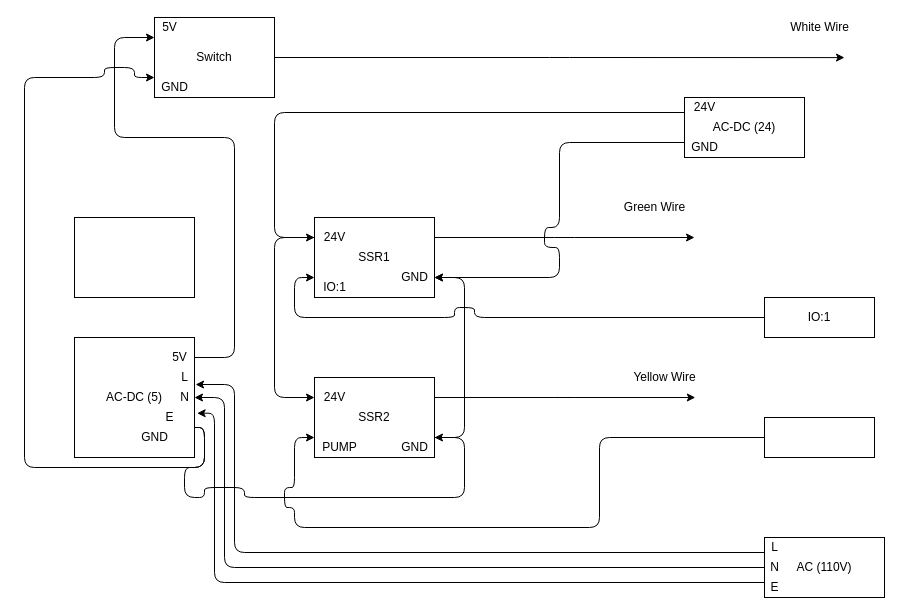
Image size: 902x615. Some labels were removed from this diagram. The shapes that lost their labels are listed below. From the top down, each one's centre as x and y in pixels, then its label:
the point at 134,257: SSR3
the point at 819,437: PUMP_CTRL
